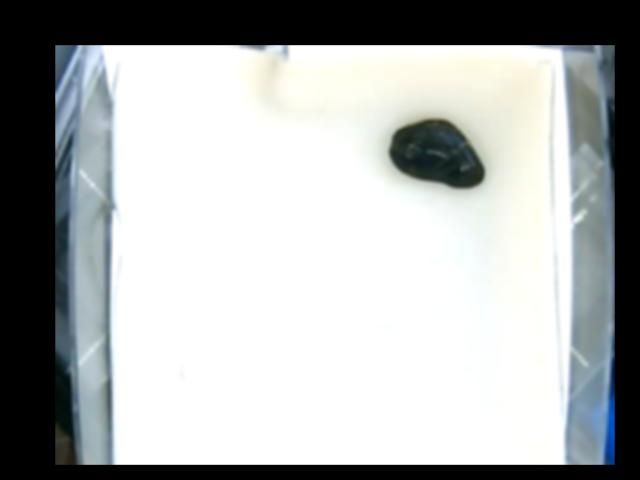Pebble: (387, 117, 485, 190)
